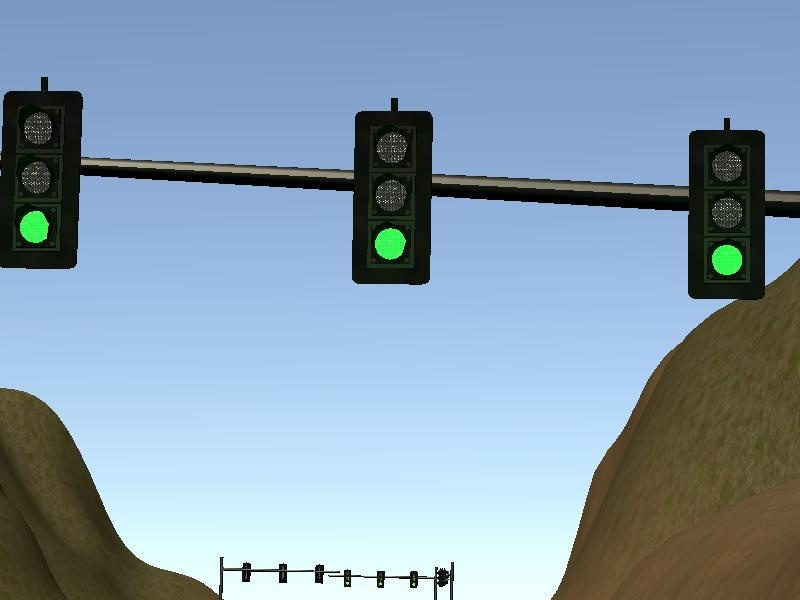GREEN: (1, 92, 82, 269), (350, 112, 430, 283), (686, 128, 766, 299)
